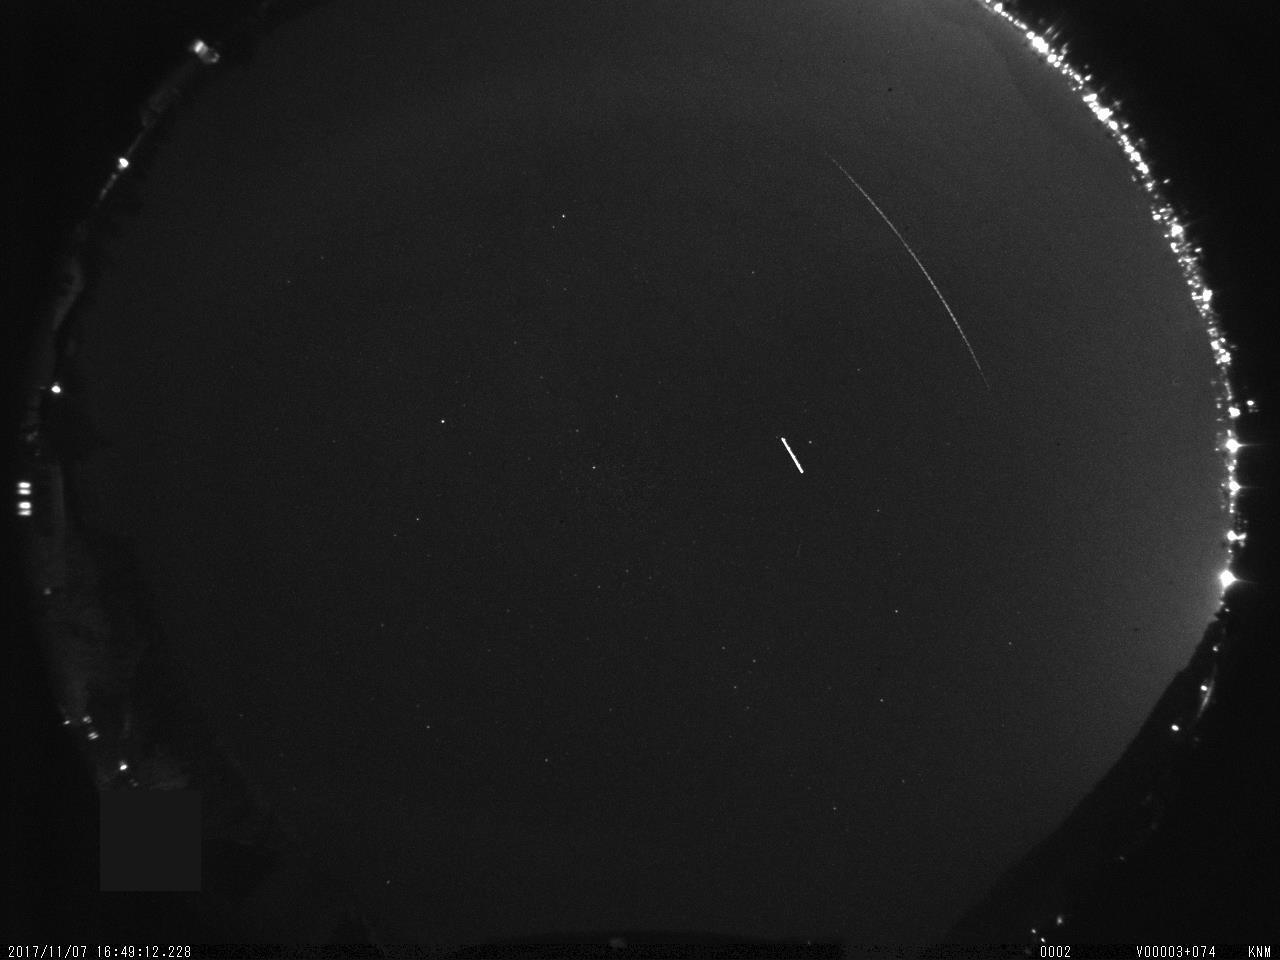Meteor: (834, 157, 995, 390), (777, 429, 809, 485)
